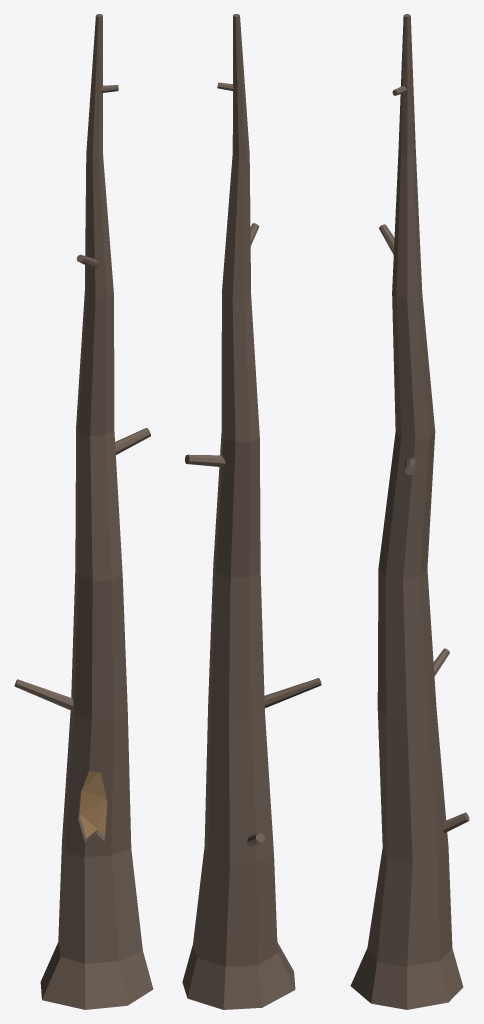
The model's file is Wh_Pine_Dead.fbx.
3 renders of one model, left to right at view 1: azimuth 30°, elevation 25°; view 2: azimuth 210°, elevation 25°; view 3: azimuth 270°, elevation 25°, orthographic.
Parts seen in each view (by area): view 1: Plane.572; view 2: Plane.572; view 3: Plane.572.
Boxes of the visible parts, <box> form: Plane.572: <box>14,14,153,1009</box>; Plane.572: <box>182,14,321,1009</box>; Plane.572: <box>350,14,469,1009</box>.
Size of the model in its own units: 160 by 1260 by 140.
